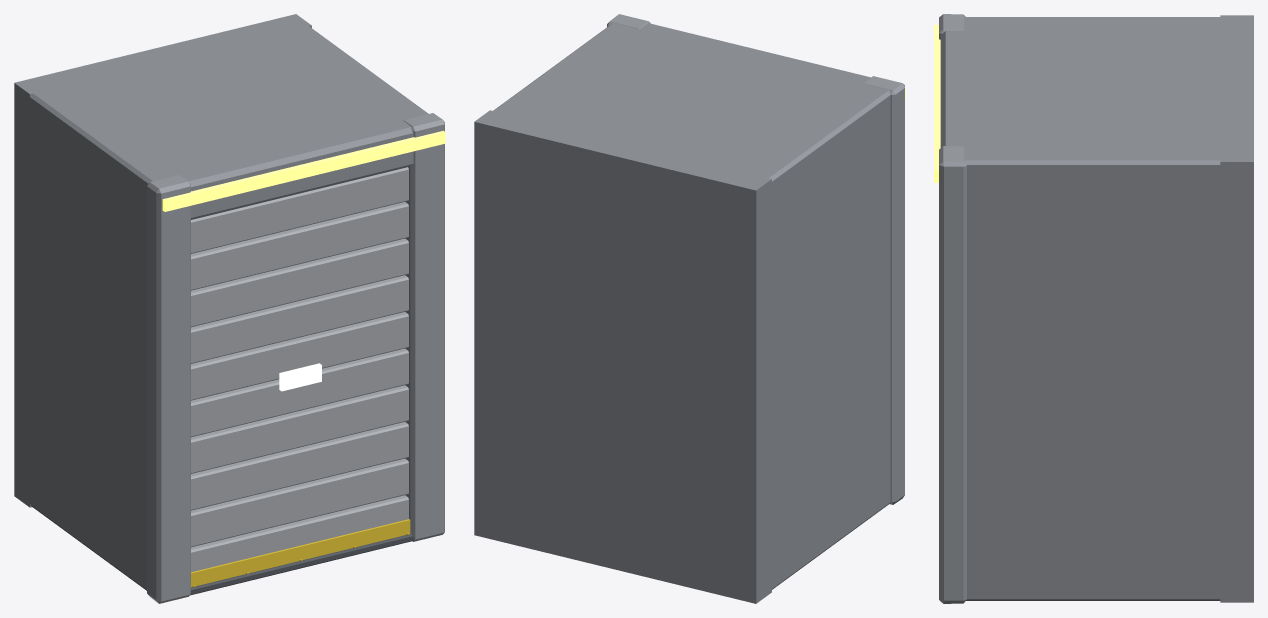
Rendered from rb_station_monoid.glb.
The picture shows the model from 3 angles, left to right: view 1: azimuth 30°, elevation 25°; view 2: azimuth 150°, elevation 25°; view 3: azimuth 270°, elevation 25°; orthographic projection. The views are drawn at different scales.
Parts seen in each view (by area): view 1: rb_station_monoid, shutter; view 2: rb_station_monoid; view 3: rb_station_monoid.
Part boxes in pixels (x1,y1,x2,y2): rb_station_monoid: (14,14,445,603); shutter: (191,167,410,587); rb_station_monoid: (474,14,905,603); rb_station_monoid: (934,14,1253,603).
Size of the model in its own units: 2.16 by 2.97 by 1.94.
